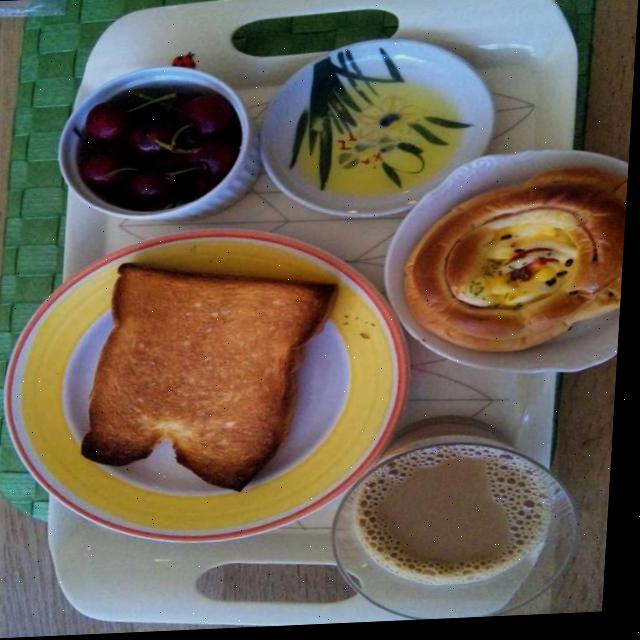面包点心: (83, 264, 338, 494)
